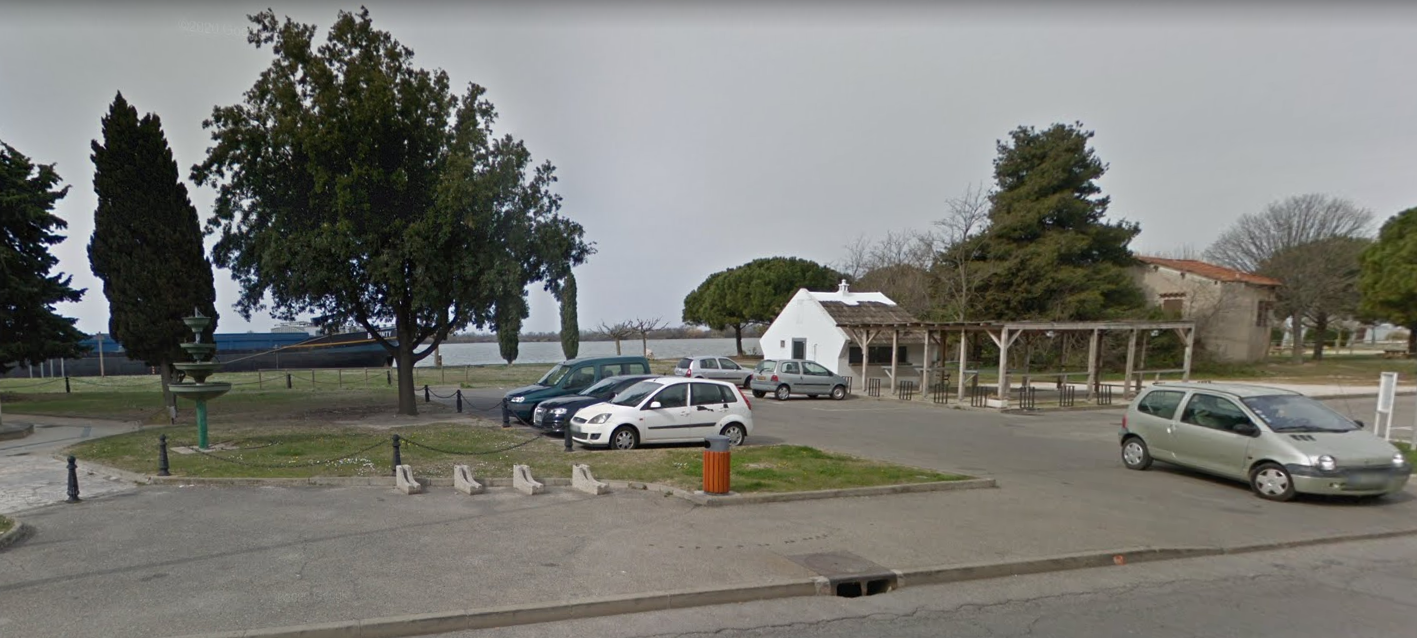Tree: (210, 16, 578, 439), (924, 121, 1167, 387), (74, 95, 229, 420), (690, 250, 865, 355)
